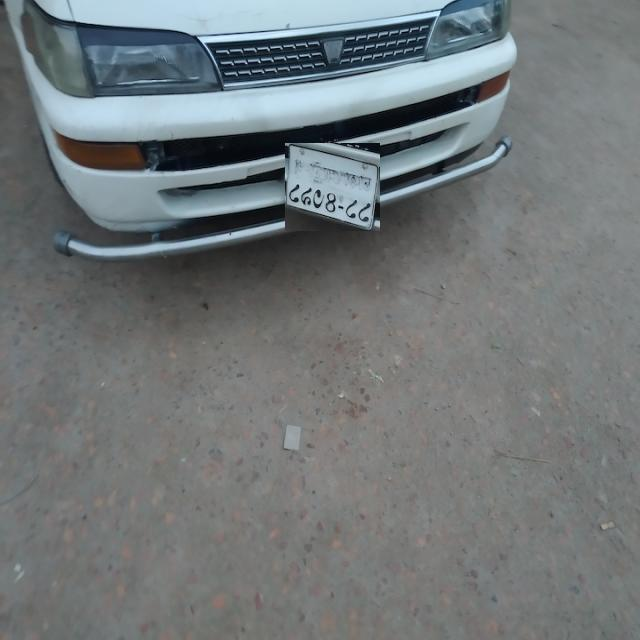numberplate: (285, 143, 380, 231)
